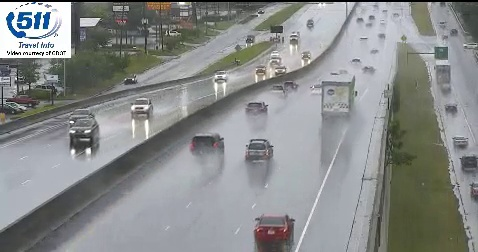car: (255, 214, 294, 242), (191, 135, 223, 156), (246, 142, 273, 161), (246, 102, 268, 115)
small-truck: (322, 75, 355, 117)
